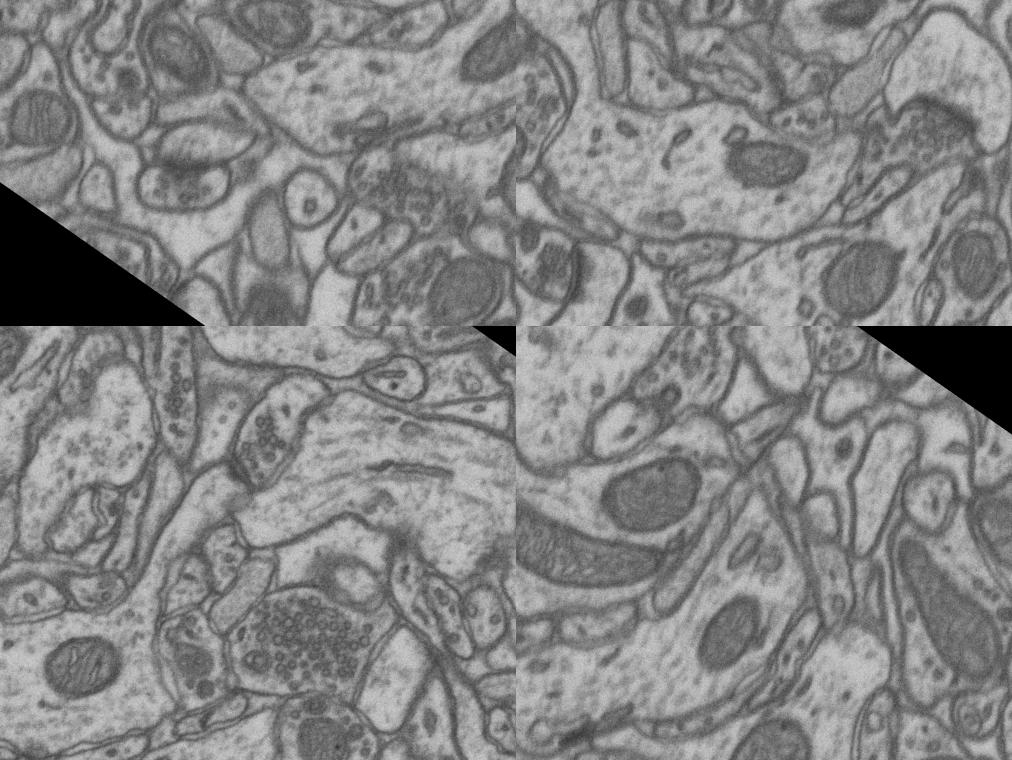mitochondria: (516, 449, 683, 640), (850, 523, 1012, 695), (581, 419, 723, 563), (793, 206, 926, 326), (23, 602, 148, 726), (710, 106, 825, 220), (677, 578, 781, 691), (949, 453, 1012, 633), (917, 204, 1012, 321), (124, 0, 232, 101), (0, 65, 92, 177), (412, 232, 516, 326), (698, 691, 839, 760), (212, 0, 328, 74), (447, 0, 516, 107), (275, 697, 377, 760), (476, 98, 516, 248), (806, 0, 903, 59), (516, 99, 551, 203), (430, 285, 516, 326), (885, 730, 993, 760)
